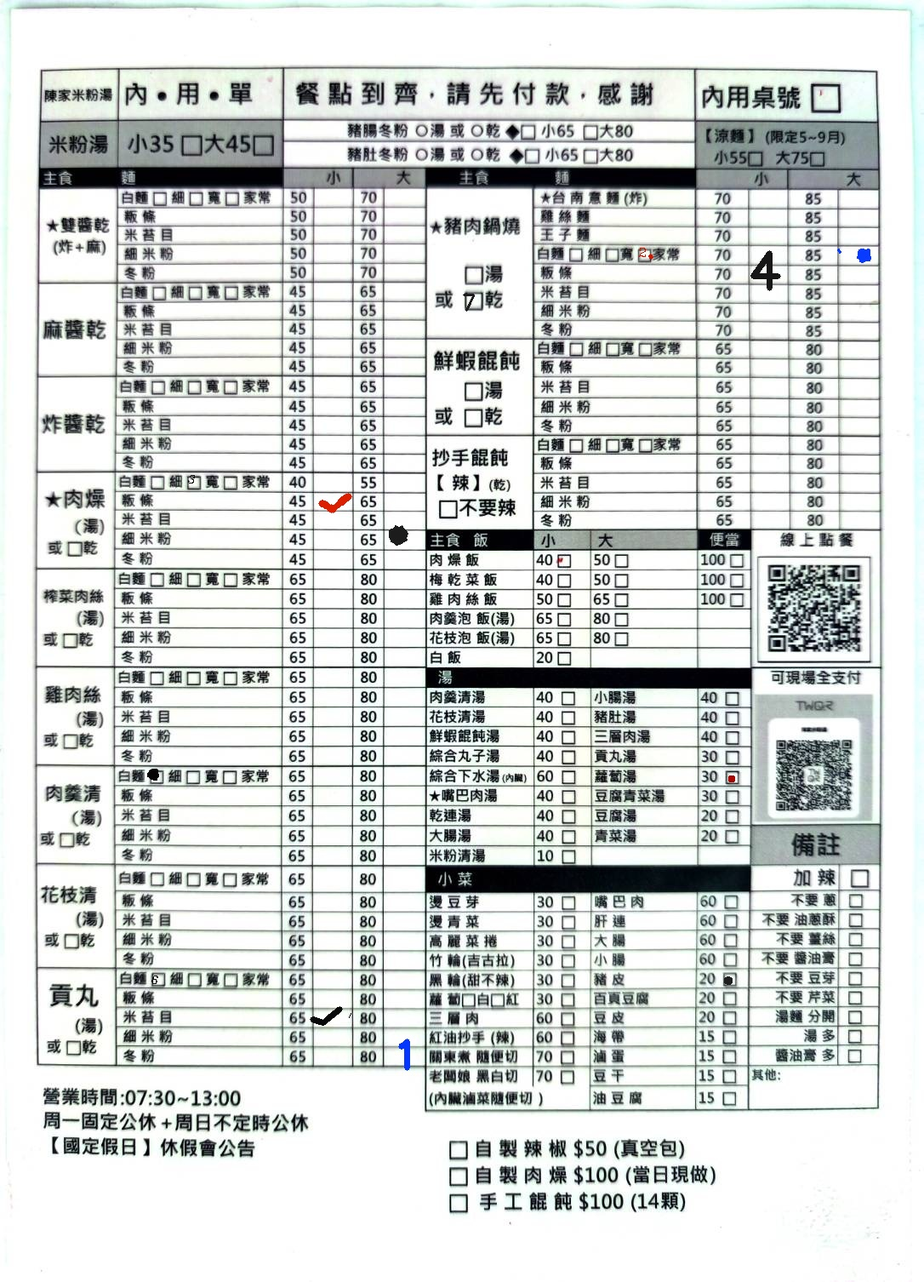marked_circle: (840, 244, 877, 264), (385, 529, 423, 548), (727, 773, 739, 785), (723, 973, 734, 985), (151, 771, 162, 783)
marked_number_1: (386, 1047, 424, 1067)
marked_number_2: (639, 249, 650, 260)
marked_number_3: (188, 477, 199, 489)
marked_number_4: (750, 266, 787, 286)
marked_number_6: (152, 972, 163, 984)
marked_number_7: (466, 293, 482, 310)
marked_tick: (315, 492, 352, 512), (313, 1008, 351, 1027)
